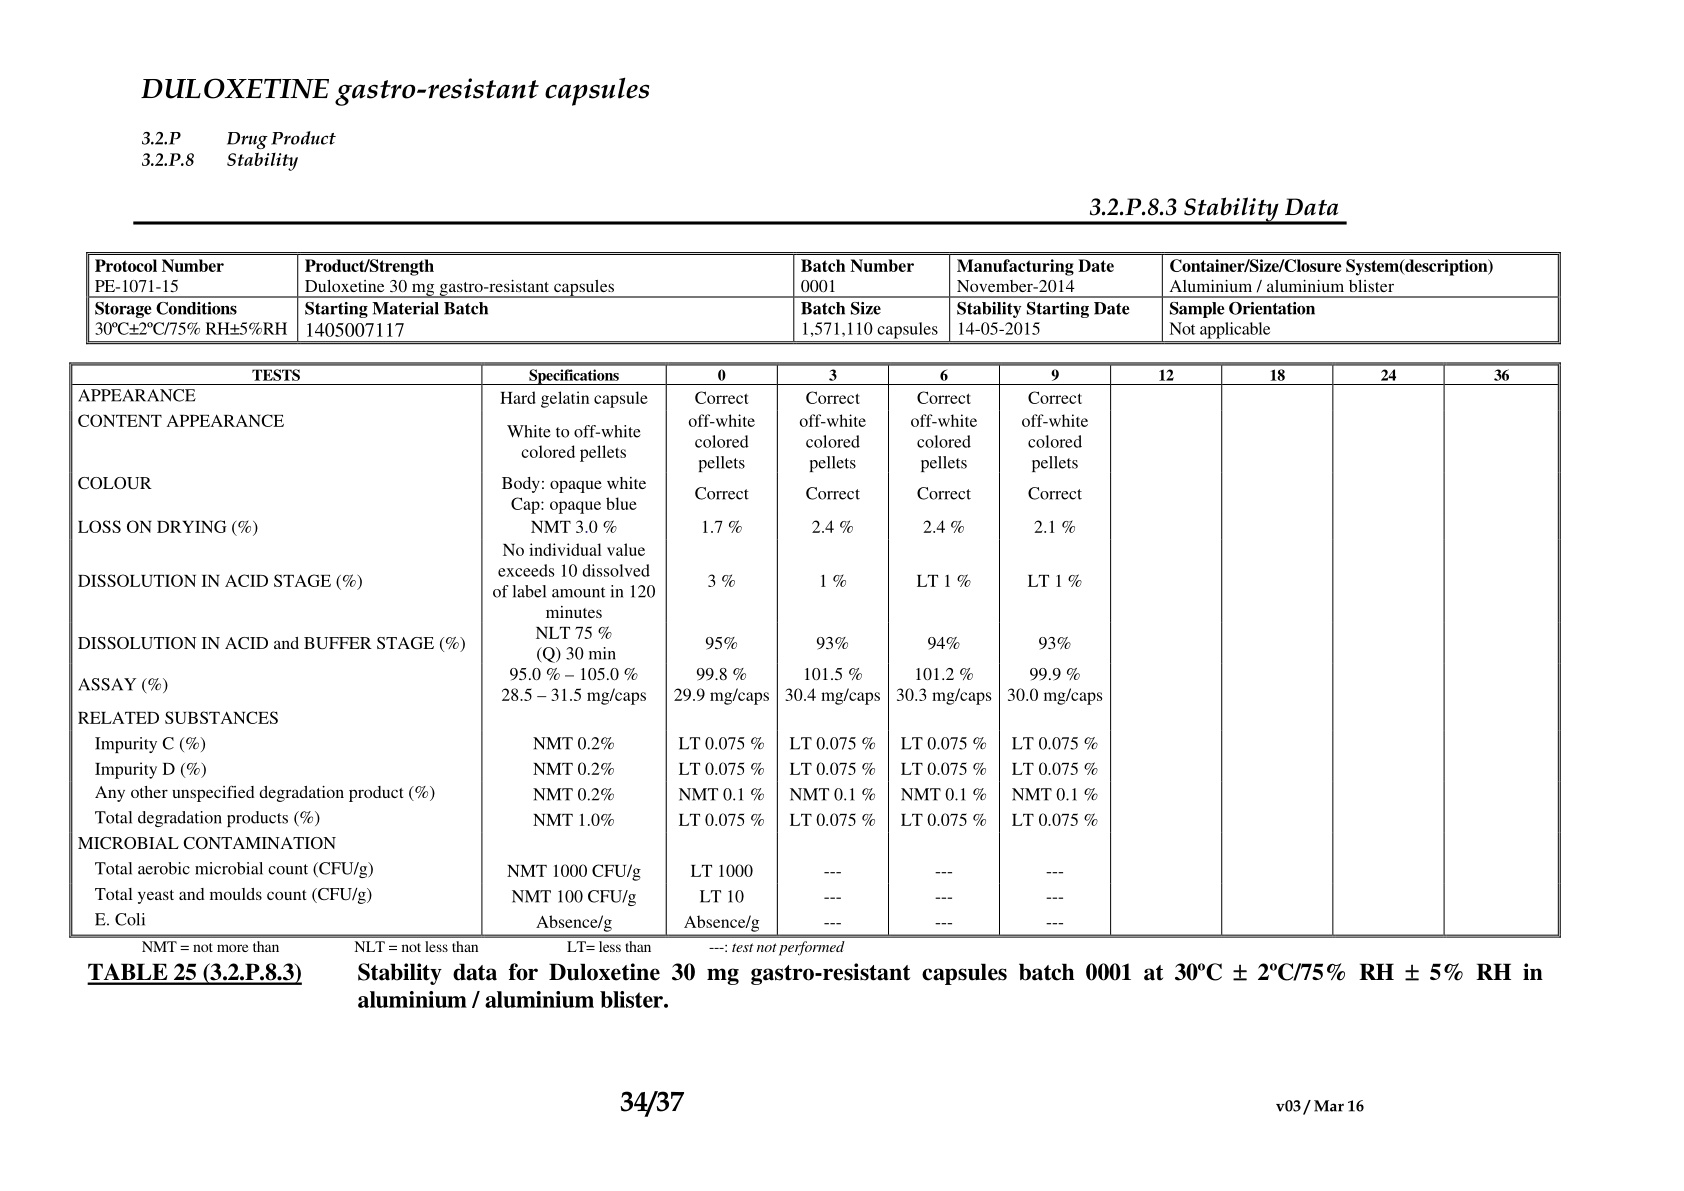full_lined: (85, 250, 1562, 345)
partial_lined: (68, 360, 1562, 938)
